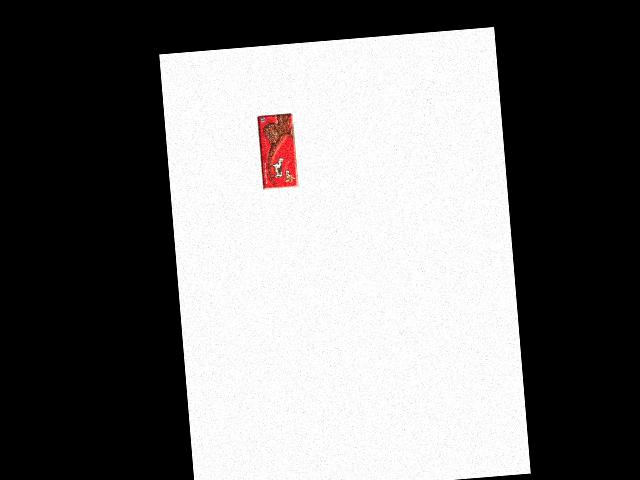chocolate: (263, 110, 305, 182)
